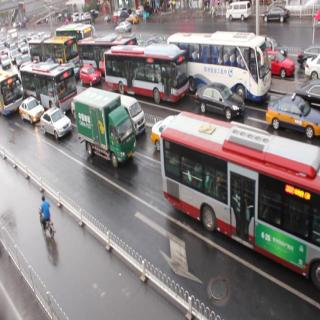BigCar: (170, 100, 303, 267), (169, 42, 277, 116), (106, 47, 182, 106), (72, 107, 140, 169), (14, 60, 74, 107)
Car: (201, 89, 244, 125), (39, 98, 69, 146), (74, 57, 104, 88)
